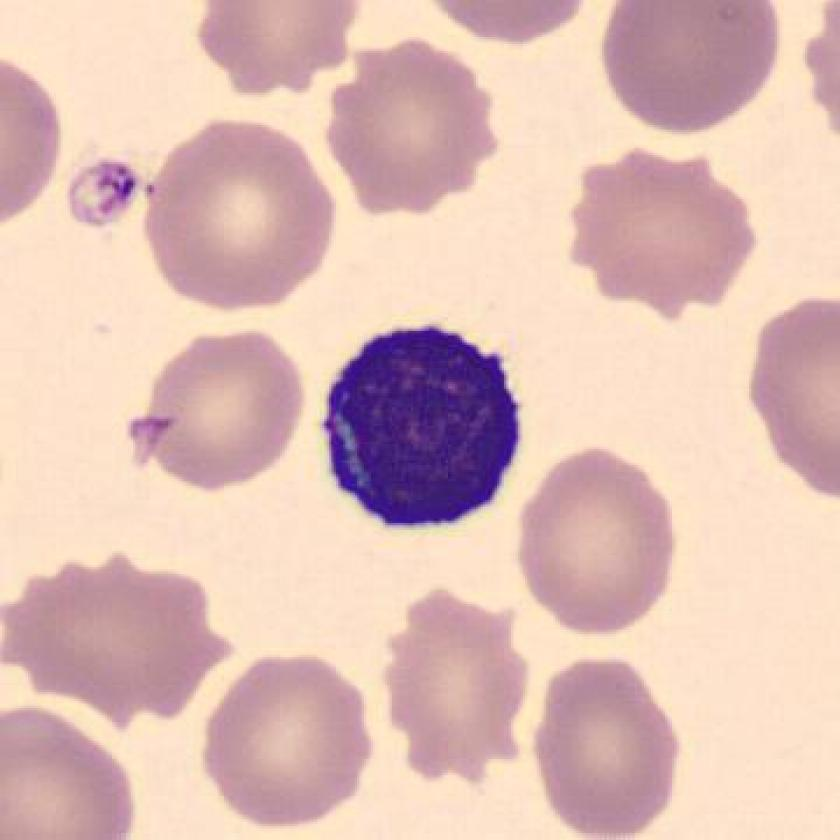lymphocyte: (302, 313, 547, 545)
